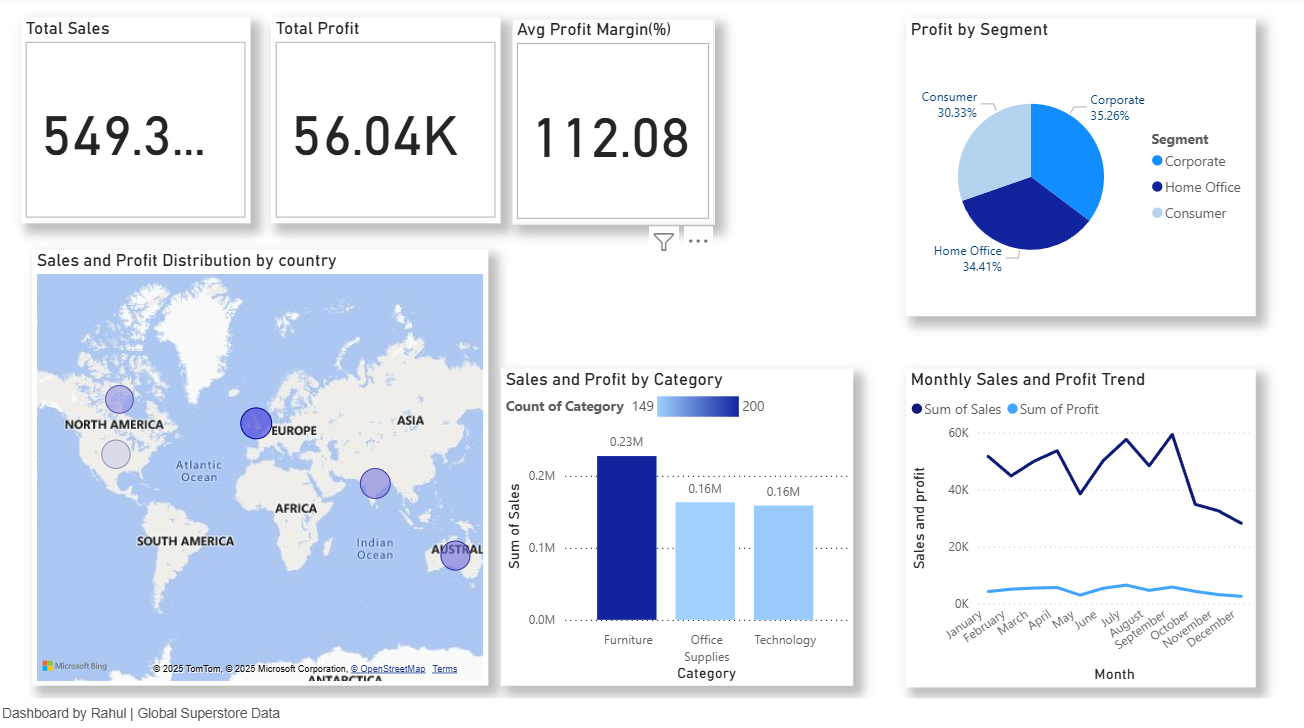

What the dashboard file says about the page in this screenshot:
{"tool":"powerbi","page":{"name":"Page 1","canvas":[1280,720],"ordinal":0},"visuals":[{"type":"cardVisual","title":"Total Sales","fields":{"Data":["Sum(Sheet1.Sales)"]},"box":[23.2,20.8,225,201.8],"z":0},{"type":"cardVisual","title":"Total Profit","fields":{"Data":["Sum(Sheet1.Profit)"]},"box":[267.8,20.8,225,201.8],"z":1000},{"type":"cardVisual","title":"Avg Profit Margin(%)","fields":{"Data":["Avg(Sheet1.Profit)"]},"box":[503.8,22,198.1,201.8],"z":2000},{"type":"map","title":"Sales and Profit Distribution by country","fields":{"Category":["Sheet1.Country"],"Size":["Sum(Sheet1.Sales)"]},"box":[34.2,248.2,446.3,426.8],"z":3000},{"type":"clusteredColumnChart","title":"Sales and Profit by Category","fields":{"Category":["Sheet1.Category"],"Y":["Sum(Sheet1.Sales)"]},"box":[492.8,364.4,344.8,310.6],"z":4000},{"type":"pieChart","title":"Profit by Segment","fields":{"Category":["Sheet1.Segment"],"Y":["Sum(Sheet1.Profit)"]},"box":[889,22,342.4,291],"z":5000},{"type":"lineChart","title":"Monthly Sales and Profit Trend","fields":{"Category":["Sheet1.Order Date.Variation.Date Hierarchy.Month"],"Y":["Sum(Sheet1.Sales)","Sum(Sheet1.Profit)"]},"box":[889,364.4,342.4,311.8],"z":6000},{"type":"textbox","box":[702,32,150,202],"z":7000},{"type":"textbox","box":[0,687.2,1280.3,33],"z":7001}]}

Visuals, with their boxes in screenshot pixels (x1, y1, x2, y2), scaled from the page's 1280x720 canvas onto the 1304x728 screenshot:
"Total Sales" cardVisual: locate(24, 21, 253, 225)
"Total Profit" cardVisual: locate(273, 21, 502, 225)
"Avg Profit Margin(%)" cardVisual: locate(513, 22, 715, 226)
"Sales and Profit Distribution by country" map: locate(35, 251, 490, 682)
"Sales and Profit by Category" clusteredColumnChart: locate(502, 368, 853, 682)
"Profit by Segment" pieChart: locate(906, 22, 1254, 316)
"Monthly Sales and Profit Trend" lineChart: locate(906, 368, 1254, 684)
textbox: locate(715, 32, 868, 237)
textbox: locate(0, 695, 1303, 727)
